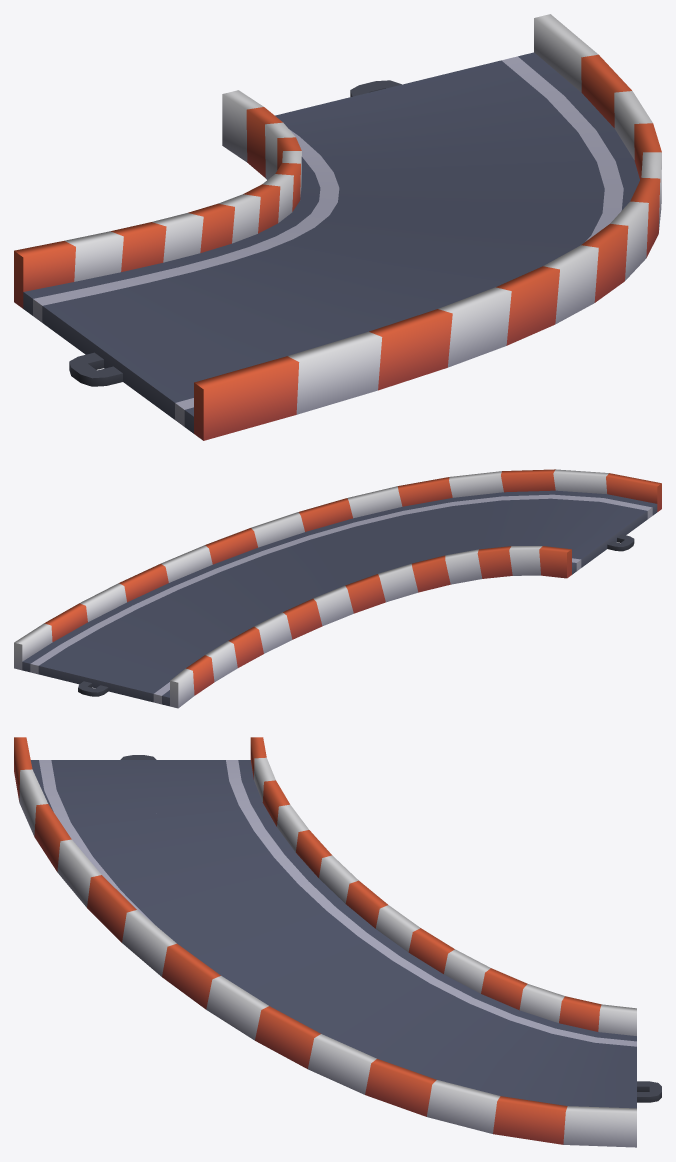
Rendered from track-road-wide-corner-large-ramp.glb.
3 views of the same model, one above another, from view 1: azimuth 30°, elevation 25°; view 2: azimuth 150°, elevation 25°; view 3: azimuth 270°, elevation 25° (orthographic). The views are drawn at different scales.
Parts seen in each view (by area): view 1: track-road-wide-corner-large-ramp; view 2: track-road-wide-corner-large-ramp; view 3: track-road-wide-corner-large-ramp.
Part boxes in pixels (box(x1,y1,x2,y2)): track-road-wide-corner-large-ramp: box(14, 14, 661, 440); track-road-wide-corner-large-ramp: box(14, 469, 661, 708); track-road-wide-corner-large-ramp: box(14, 737, 661, 1147).
Size of the model in its own units: 5.2 by 1.3 by 5.2.
